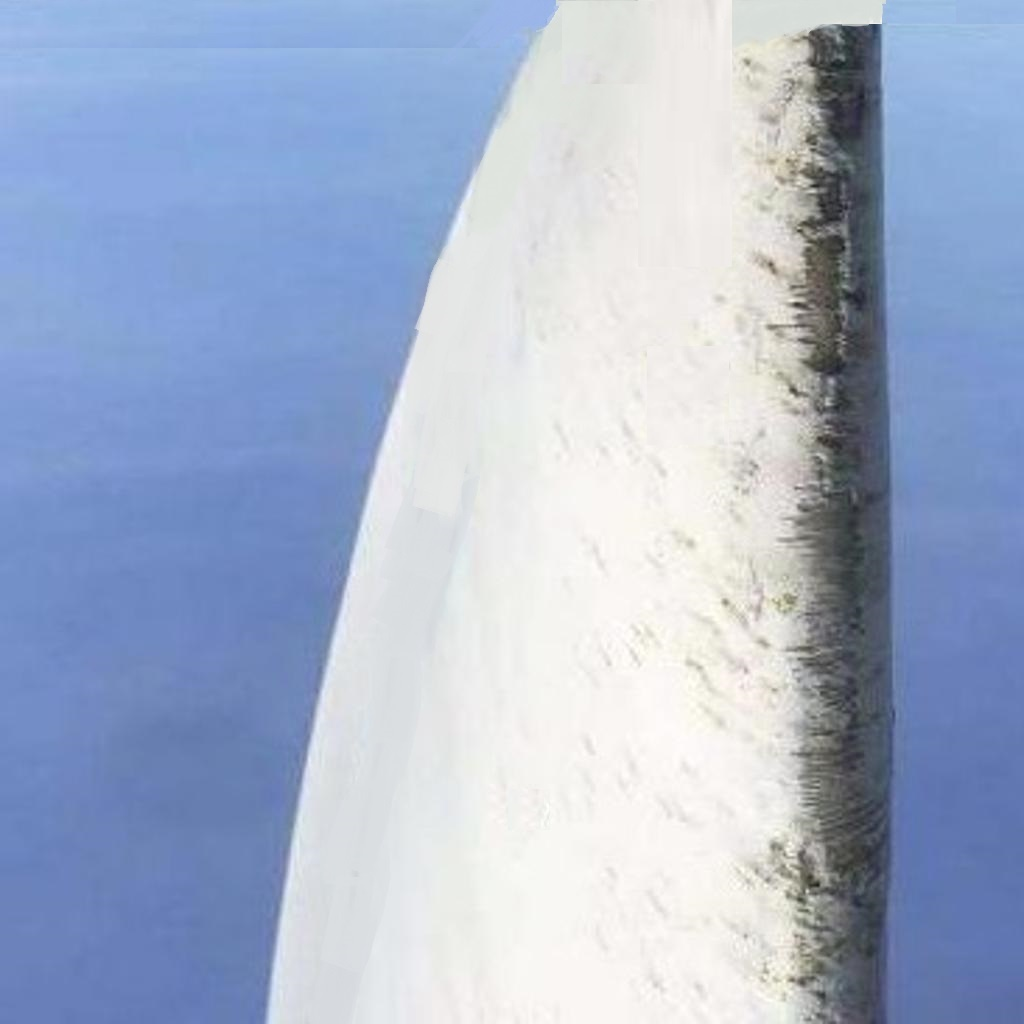corrosion: (767, 27, 887, 1016)
